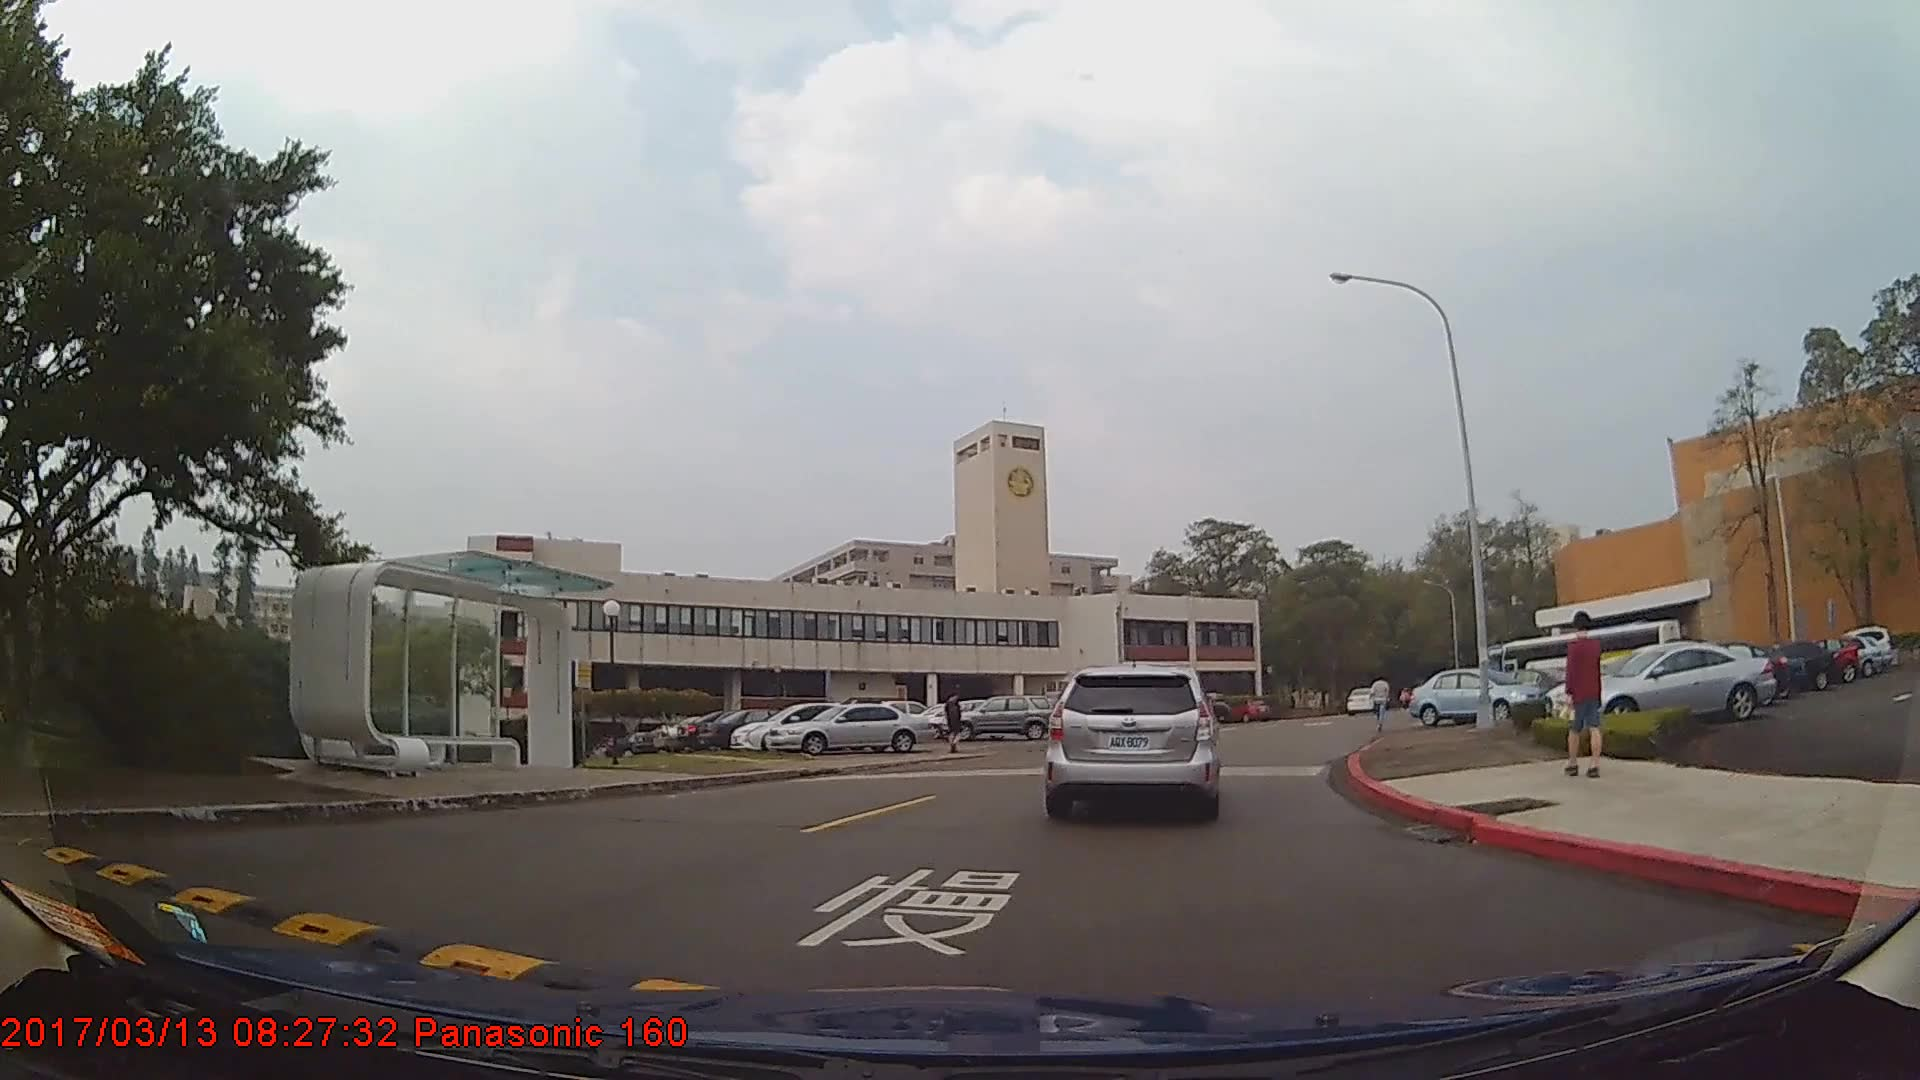pedestrian: (1555, 613, 1608, 780), (1369, 671, 1392, 734), (946, 690, 967, 757)
vehicle: (1048, 663, 1218, 819), (1559, 641, 1774, 726), (766, 701, 933, 755), (725, 698, 890, 748), (1405, 668, 1545, 725), (1687, 646, 1806, 699), (1726, 641, 1836, 693), (942, 693, 1059, 739), (696, 706, 814, 749), (1345, 686, 1380, 716)
